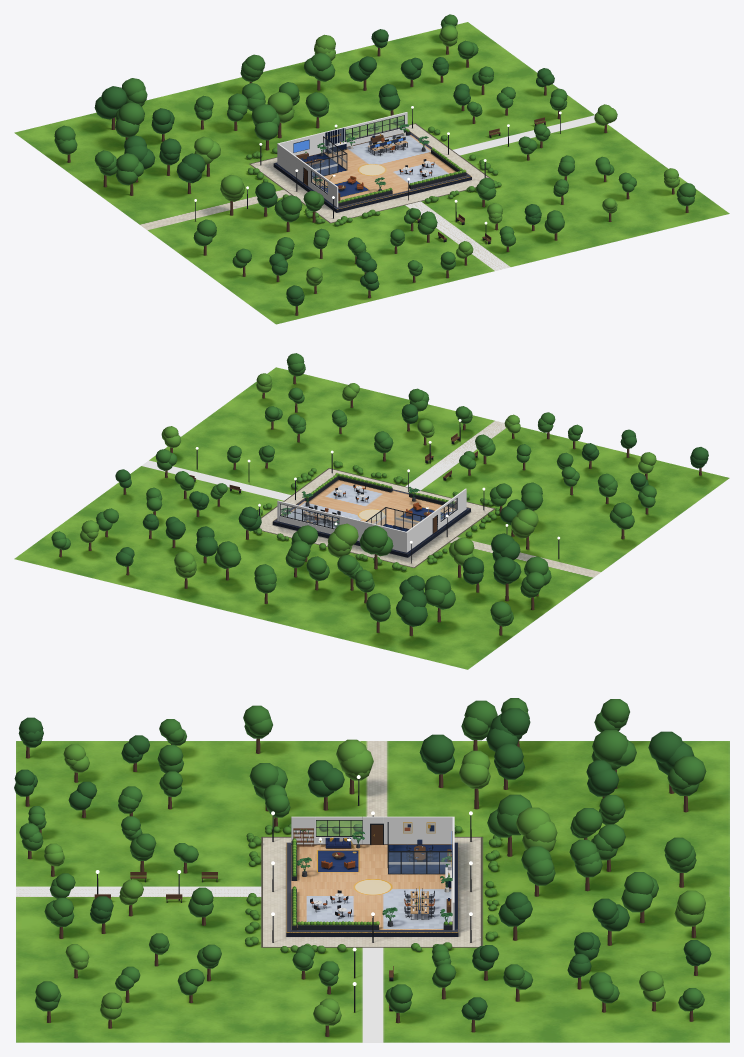
Rendered from office-02.glb.
The picture shows the model from 3 angles, top to bottom: view 1: azimuth 30°, elevation 25°; view 2: azimuth 150°, elevation 25°; view 3: azimuth 270°, elevation 25°; orthographic projection. The views are drawn at different scales.
Visible parts, largest first — view 1: BAKED_ground, GRD_canopy_a, GRD_canopy_c, BAKED_floor, GRD_canopy_b, GRD_trunks, GRD_bushes, SRC_ground_path_2, SRC_ground_path_3, ARCH_wall_back_a, ENV_slab, ARCH_window_back_glass (+1 smaller); view 2: BAKED_ground, GRD_canopy_a, GRD_canopy_c, GRD_canopy_b, BAKED_floor, GRD_trunks, GRD_bushes, SRC_ground_path_2, SRC_ground_path_3, ARCH_wall_back_a, ARCH_window_back_glass, ARCH_wall_side_a (+1 smaller); view 3: BAKED_ground, GRD_canopy_a, GRD_canopy_c, BAKED_floor, GRD_canopy_b, GRD_trunks, GRD_bushes, SRC_ground_path_3, SRC_ground_path_2, ARCH_wall_side_a, ARCH_meet_e_glass, ENV_slab (+4 smaller).
Part boxes in pixels (box(x1,y1,x2,y2)): BAKED_ground: box(14, 22, 729, 324); GRD_canopy_a: box(54, 14, 696, 276); GRD_canopy_c: box(94, 29, 554, 306); BAKED_floor: box(274, 131, 471, 209); GRD_canopy_b: box(194, 25, 679, 286); GRD_trunks: box(67, 46, 688, 315); GRD_bushes: box(246, 119, 501, 226); SRC_ground_path_2: box(405, 201, 510, 270); SRC_ground_path_3: box(452, 115, 595, 155); ARCH_wall_back_a: box(277, 127, 345, 163); ENV_slab: box(273, 163, 471, 212); ARCH_window_back_glass: box(346, 116, 404, 140); BAKED_ground: box(14, 367, 729, 669); GRD_canopy_a: box(51, 353, 656, 626); GRD_canopy_c: box(115, 404, 708, 626); GRD_canopy_b: box(80, 373, 656, 578); BAKED_floor: box(273, 479, 470, 554); GRD_trunks: box(59, 376, 701, 635); GRD_bushes: box(253, 460, 499, 571); SRC_ground_path_2: box(405, 421, 505, 490); SRC_ground_path_3: box(141, 460, 290, 500); ARCH_wall_back_a: box(339, 515, 407, 552); ARCH_window_back_glass: box(280, 504, 338, 528); ARCH_wall_side_a: box(406, 513, 432, 551); BAKED_ground: box(16, 741, 729, 1042); GRD_canopy_a: box(19, 698, 706, 1012); GRD_canopy_c: box(14, 708, 711, 1020); BAKED_floor: box(286, 842, 458, 932); GRD_canopy_b: box(44, 739, 705, 1025); GRD_trunks: box(25, 738, 697, 1036); GRD_bushes: box(245, 824, 501, 953); SRC_ground_path_3: box(362, 947, 383, 1042); SRC_ground_path_2: box(16, 886, 261, 896); ARCH_wall_side_a: box(383, 816, 452, 844); ARCH_meet_e_glass: box(389, 852, 451, 873); ENV_slab: box(286, 932, 458, 936).
Size of the model in its own units: 70.06 by 6.68 by 70.2.
Materials: 59 (2 with a texture image).
